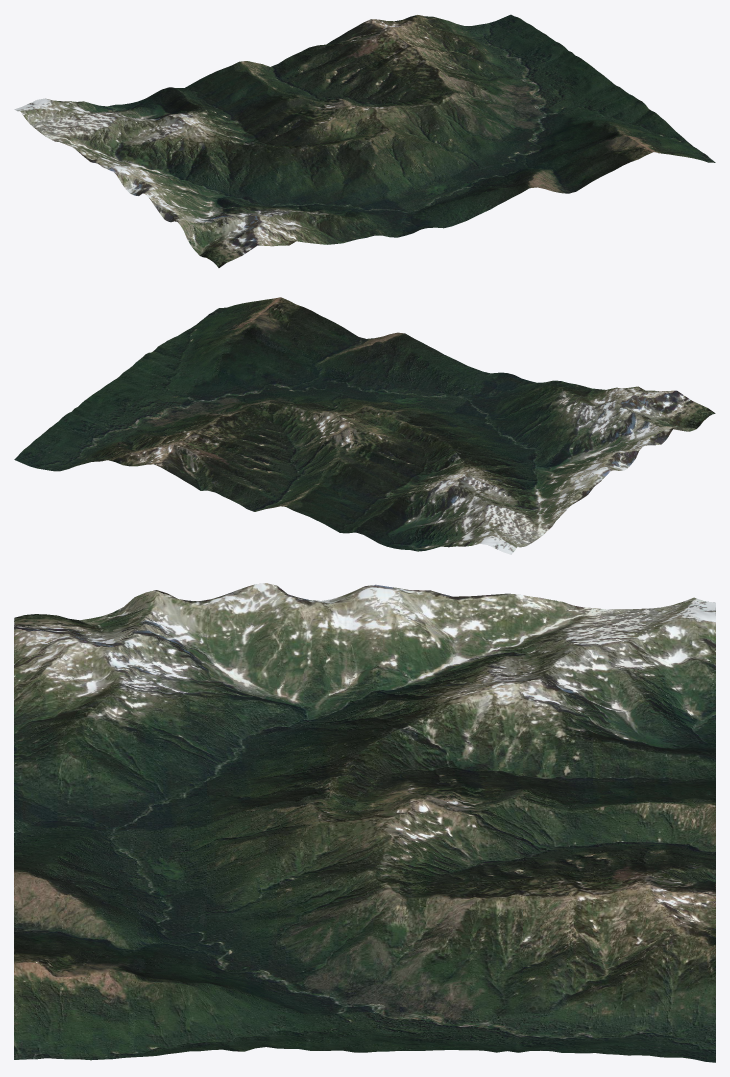
File: sec.dae
The picture shows the model from 3 angles, top to bottom: view 1: azimuth 30°, elevation 25°; view 2: azimuth 150°, elevation 25°; view 3: azimuth 270°, elevation 25°; orthographic projection. The views are drawn at different scales.
Visible parts, largest first — view 1: EXPORT_GOOGLE_SAT_WM; view 2: EXPORT_GOOGLE_SAT_WM; view 3: EXPORT_GOOGLE_SAT_WM.
Boxes of the visible parts, x1=… form: EXPORT_GOOGLE_SAT_WM: x1=14, y1=14, x2=715, y2=267; EXPORT_GOOGLE_SAT_WM: x1=14, y1=297, x2=715, y2=554; EXPORT_GOOGLE_SAT_WM: x1=14, y1=583, x2=715, y2=1062.
Bounding box in the file's own units: 17122 × 12230 × 1384.
1 material, 1 textured.
